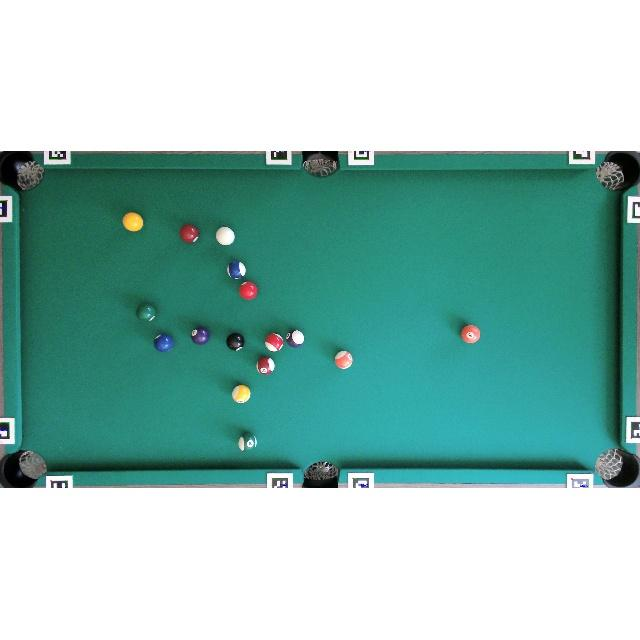cue ball: (216, 227, 235, 245)
other: (122, 211, 143, 232), (460, 324, 480, 344), (231, 384, 251, 404), (136, 303, 157, 322), (179, 224, 199, 243), (264, 333, 284, 352), (226, 332, 245, 352), (191, 326, 210, 345), (239, 281, 258, 300), (335, 350, 353, 370), (154, 334, 174, 352), (256, 356, 275, 374), (238, 434, 258, 451), (227, 261, 245, 279), (286, 330, 304, 348)
